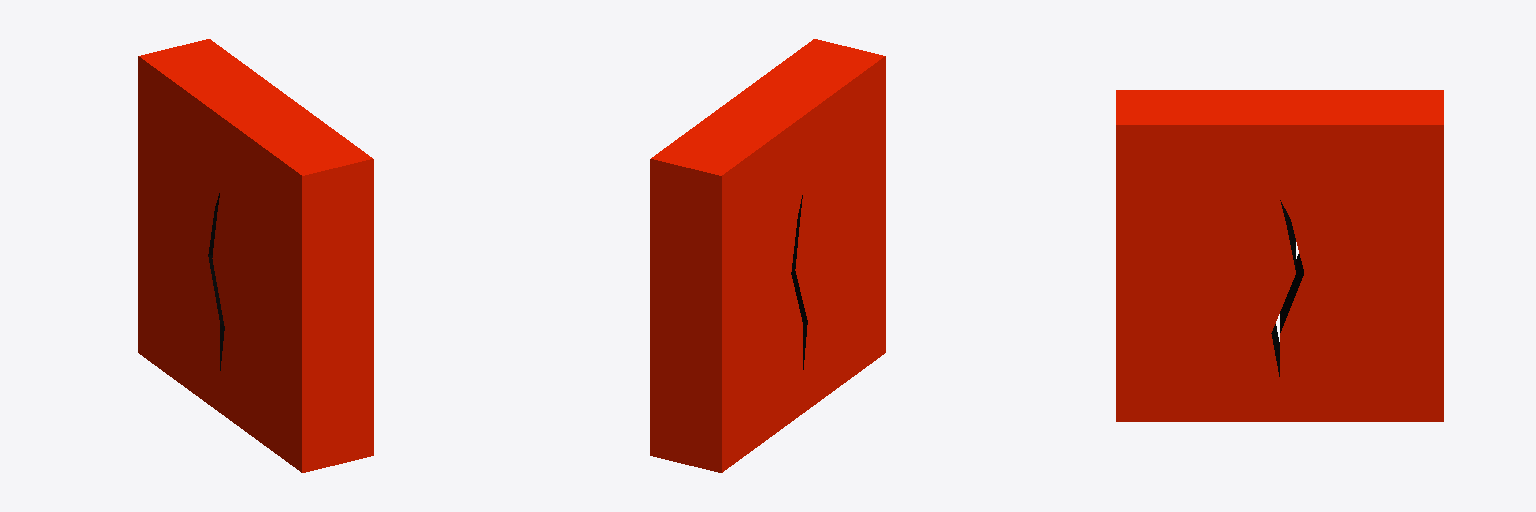
File: wall_cracked.obj
3 views of the same model, side by side, from view 1: azimuth 30°, elevation 25°; view 2: azimuth 150°, elevation 25°; view 3: azimuth 270°, elevation 25° (orthographic).
Bounding box in the file's own units: 1 × 4 × 4.